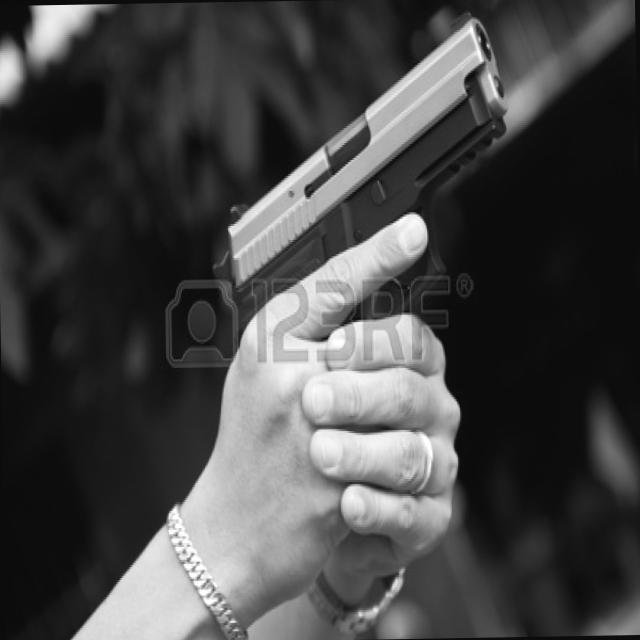handgun: (221, 7, 524, 411)
